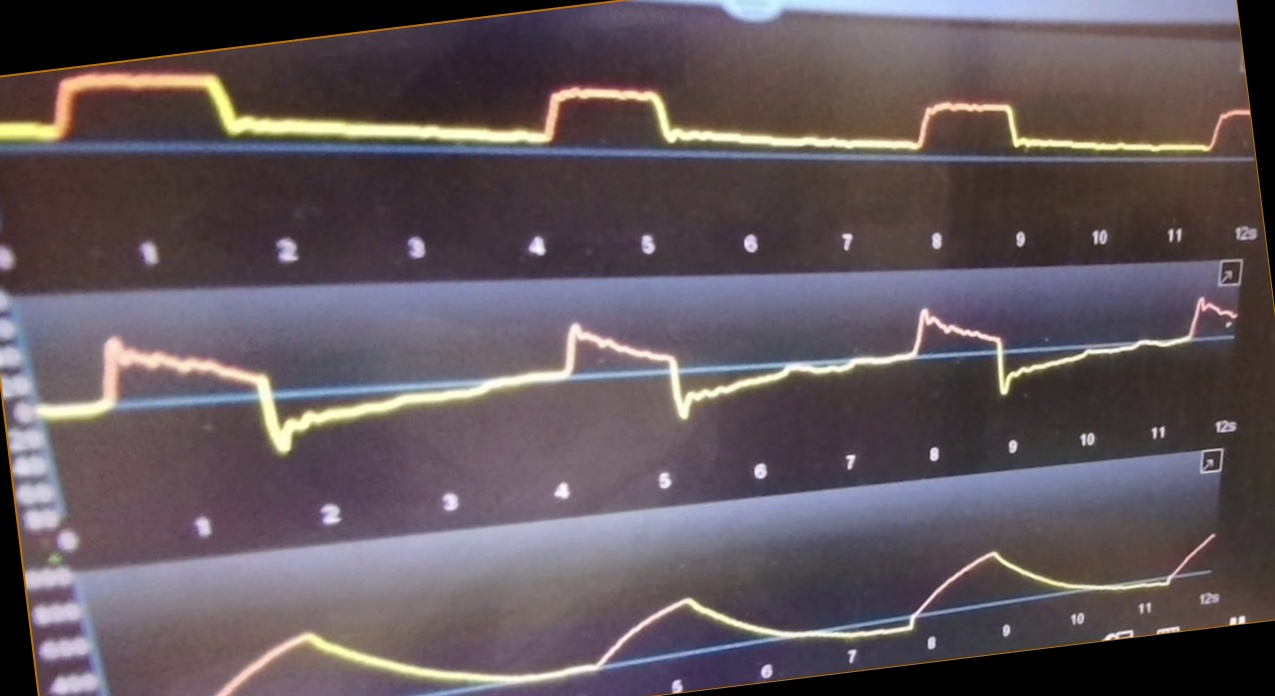Accumulation Flow: (46, 295, 1238, 453)
Volume: (203, 538, 1217, 696)
